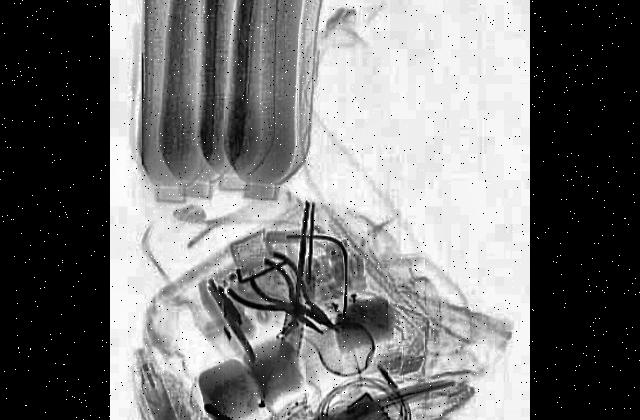Pliers: (228, 235, 334, 363), (249, 232, 347, 352)
